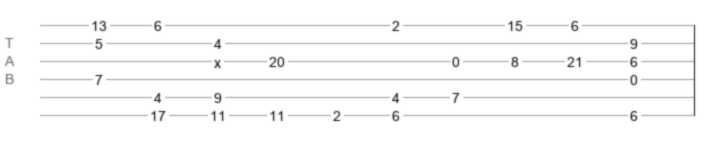0: (452, 54, 460, 64), (630, 72, 638, 82)
11: (210, 108, 226, 118), (269, 108, 285, 118)
13: (91, 18, 107, 28)
15: (507, 18, 523, 28)
17: (150, 108, 166, 118)
2: (333, 108, 341, 118), (392, 18, 400, 28)
20: (269, 54, 285, 64)
21: (567, 54, 583, 64)
4: (154, 90, 162, 100), (214, 36, 222, 46), (392, 90, 400, 100)
5: (95, 36, 103, 46)
6: (154, 18, 162, 28), (392, 108, 400, 118), (571, 18, 579, 28), (630, 54, 638, 64), (630, 108, 638, 118)
7: (95, 72, 103, 82), (452, 90, 460, 100)
8: (511, 54, 519, 64)
9: (214, 90, 222, 100), (630, 36, 638, 46)
x: (214, 55, 221, 63)
